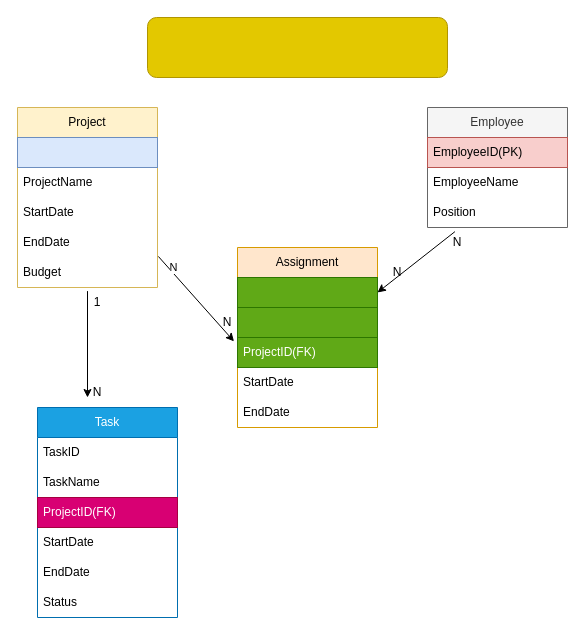
Some shapes in this 585 by 635 pixel diagram are drawn without their labels. Here are the shapes that lost their labels. From the top down, the box of each, then its label:
(146, 16, 448, 78): HOTEL MANAGEMENT SYSTEM
(16, 136, 158, 168): ProjectID(PK)
(236, 276, 378, 308): AssignmentID(PK)
(236, 306, 378, 338): EmployeeID(FK)
